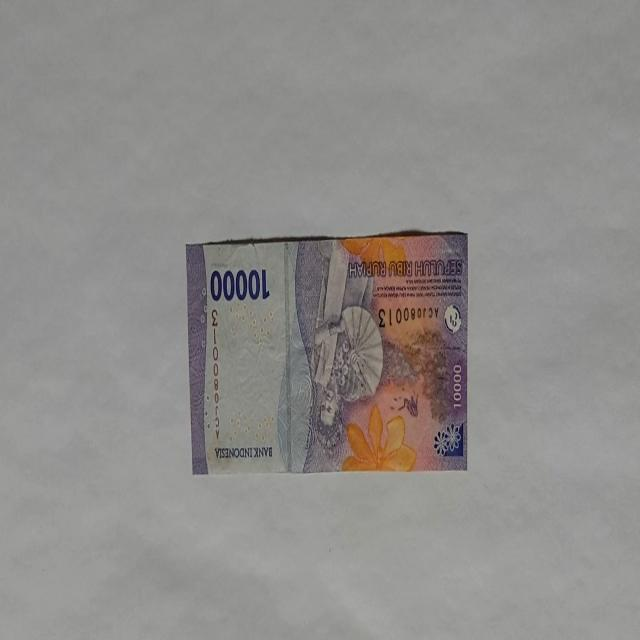sepuluh ribu rupiah: (185, 230, 469, 476), (208, 265, 272, 303)
